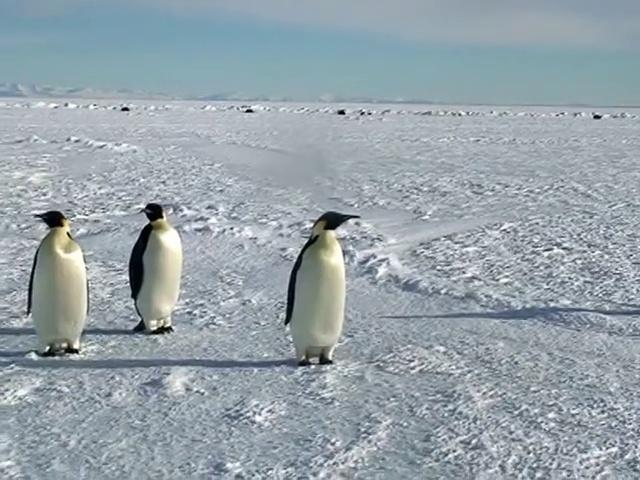animal: (285, 211, 358, 364)
